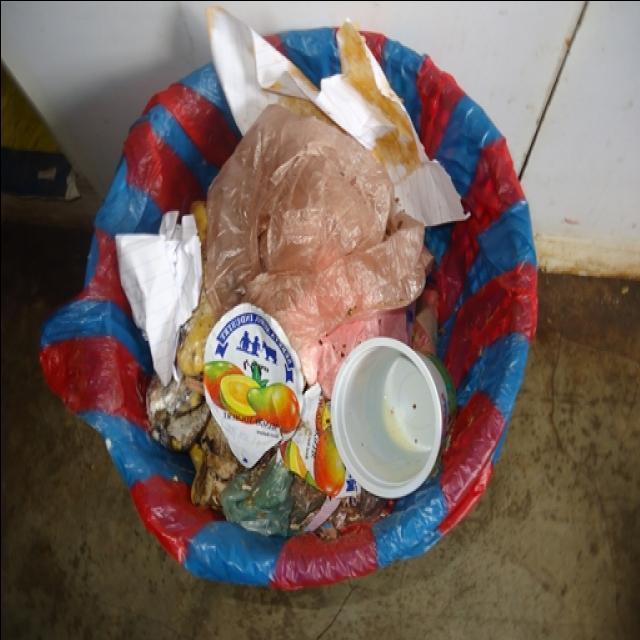Garbage: (115, 8, 465, 540)
Metal: (202, 302, 302, 467)
Plastic_Bag: (206, 103, 430, 396), (220, 452, 325, 536)
Plastic_Container: (330, 337, 455, 496)
Plastic_wraper: (280, 383, 360, 496)
